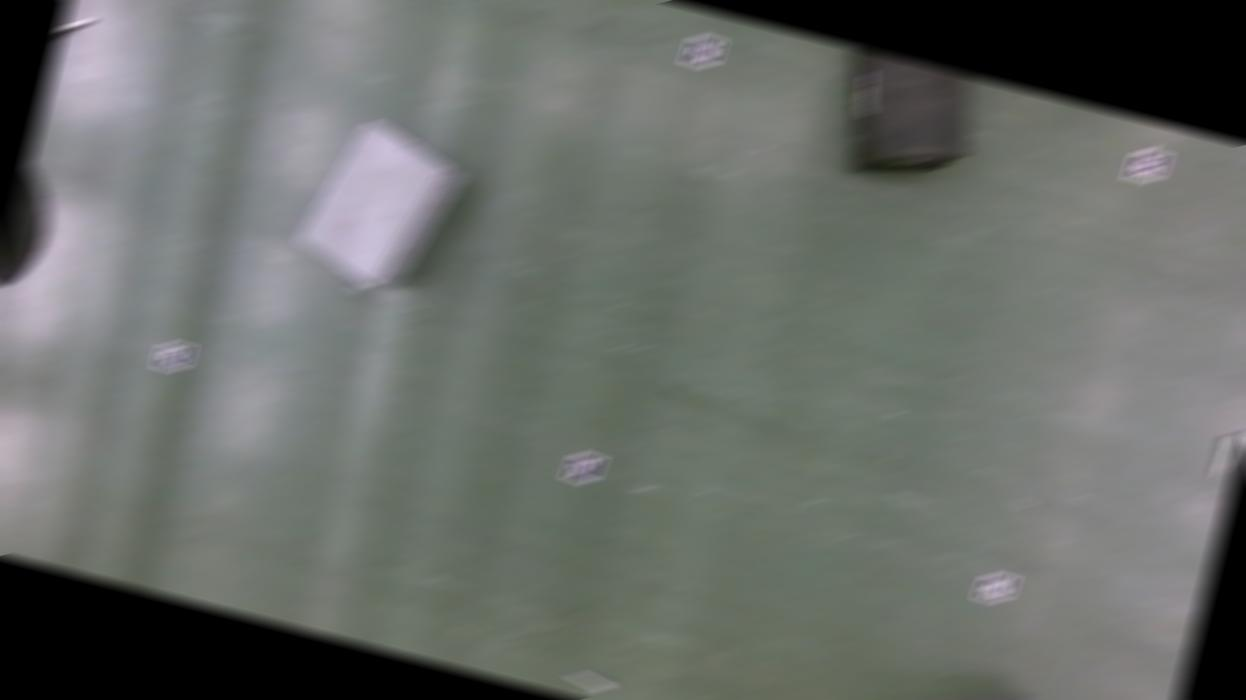probes: (54, 14, 94, 47), (1214, 430, 1242, 475), (566, 670, 613, 692)
rako: (289, 107, 476, 302), (821, 47, 987, 193), (884, 666, 1096, 700)
